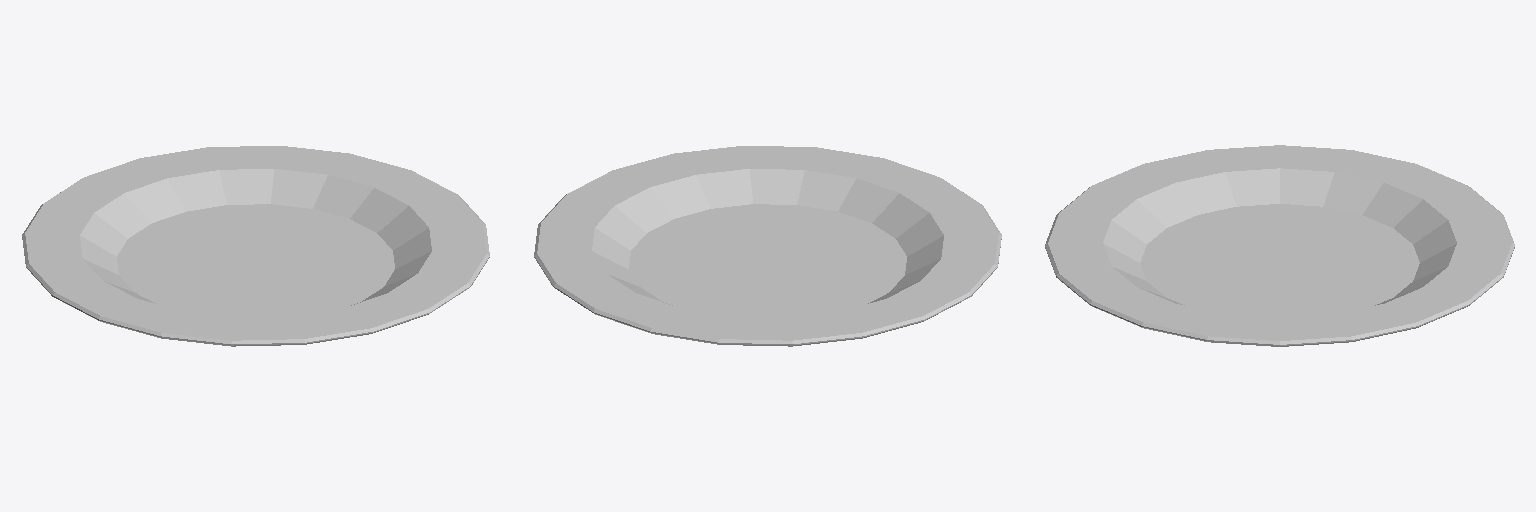
Rendered from 498 Plates.obj.
The picture shows the model from 3 angles: view 1: azimuth 30°, elevation 25°; view 2: azimuth 150°, elevation 25°; view 3: azimuth 270°, elevation 25°; orthographic projection.
Visible parts, largest first — view 1: Plate; view 2: Plate; view 3: Plate.
Part boxes in pixels (x1,y1,x2,y2): Plate: (22, 146, 489, 346); Plate: (534, 146, 1001, 346); Plate: (1045, 145, 1514, 346).
Bounding box in the file's own units: 67.5 × 4.07 × 67.5.